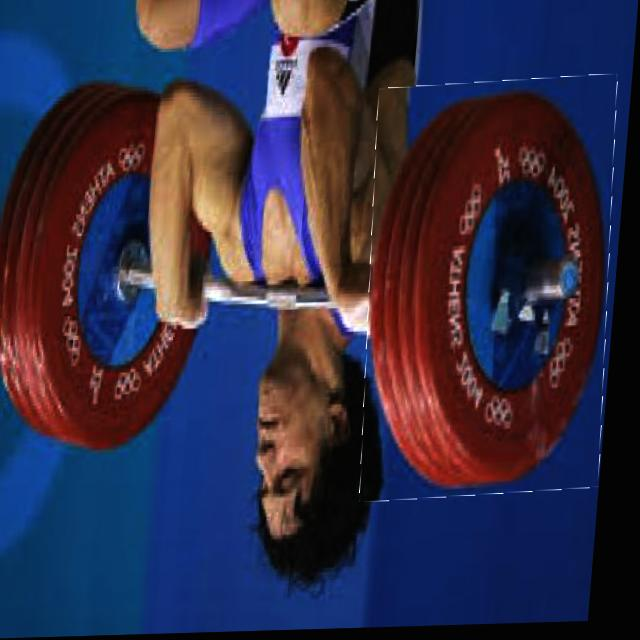barbell: (359, 80, 631, 504)
